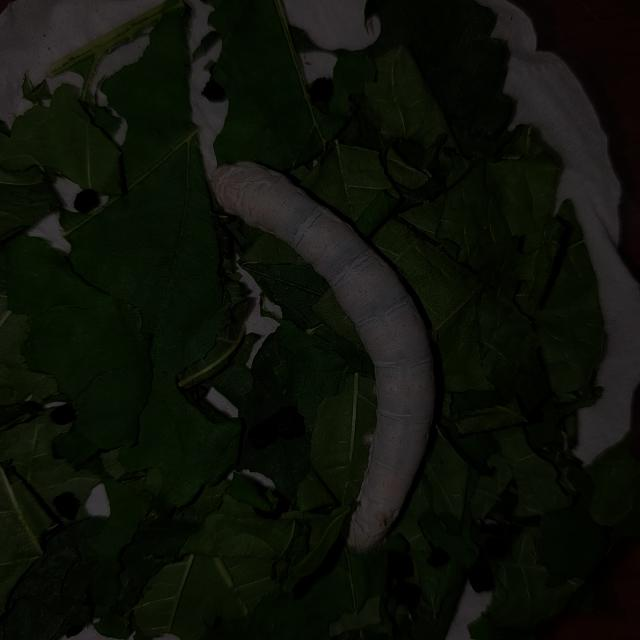Healthy: (204, 153, 440, 551)
